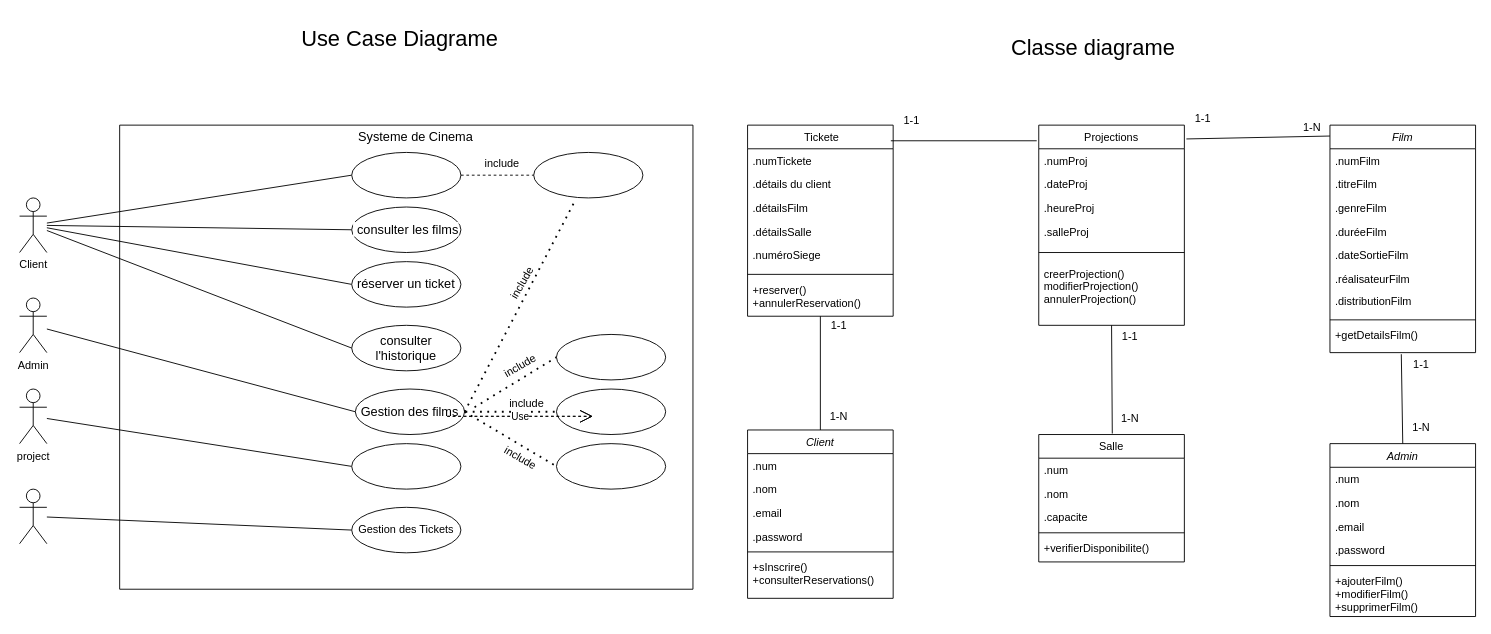
Image size: 1491x634. Some labels were removed from this diagram. The centre of each missing label's shape, as x and y in pixels:
ajoute d'un film: (x=611, y=357)
Autontficatin: (x=588, y=175)
Gestion des Prjoections: (x=406, y=466)
Inscription: (x=406, y=175)
Modife du film: (x=611, y=411)
suprition d'un film: (x=611, y=466)
Tickets: (x=33, y=516)
